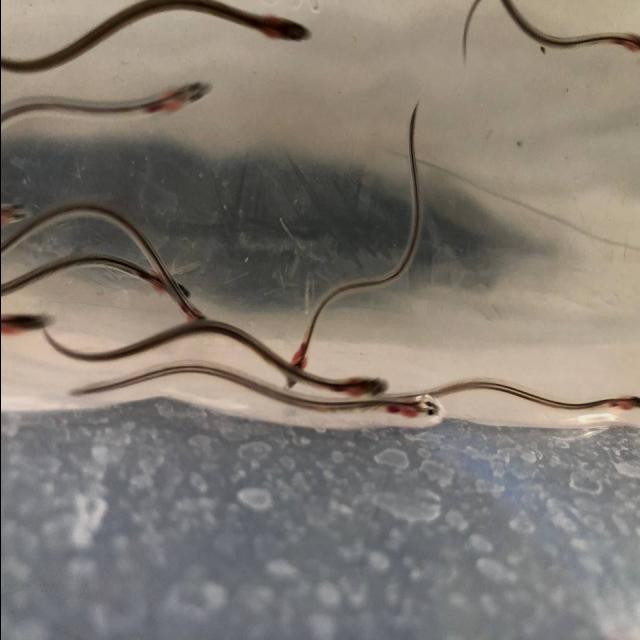glass_eel: (143, 72, 220, 124), (243, 9, 317, 53), (138, 258, 198, 306), (333, 357, 388, 407), (276, 329, 316, 397), (0, 305, 57, 351), (393, 380, 445, 426), (0, 193, 35, 241), (614, 388, 640, 421)
